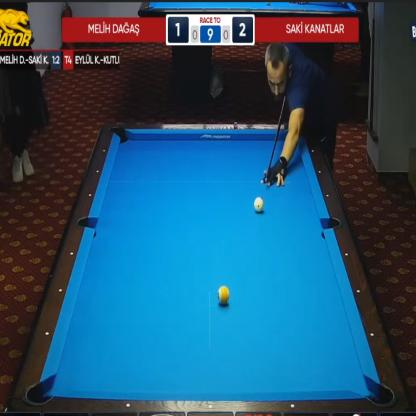Ball: (218, 286, 229, 304), (254, 197, 263, 213)
